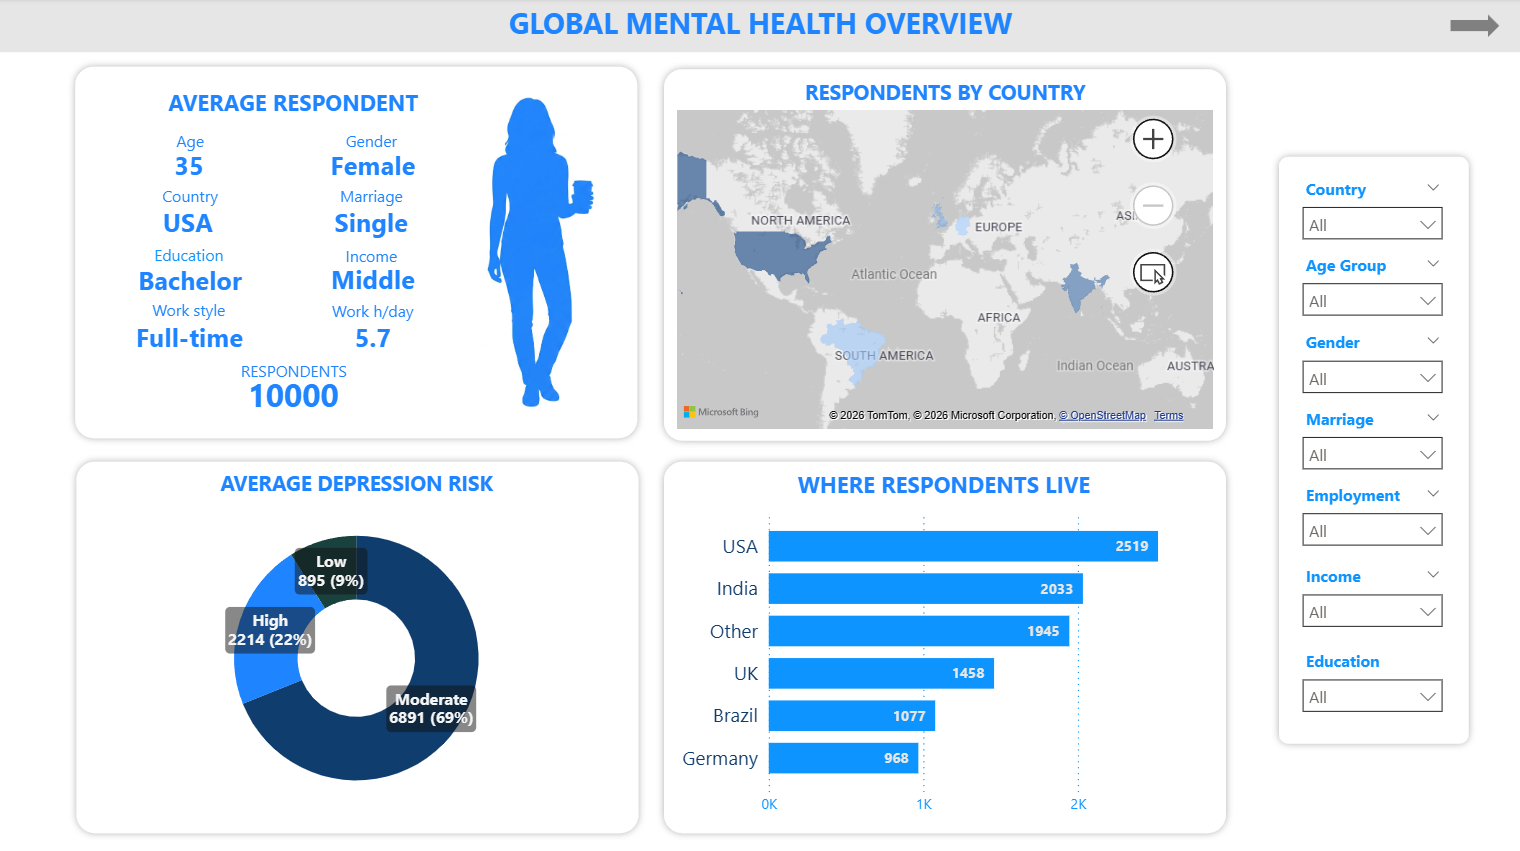

Layout of this report page (visuals, bound fields, positions):
{"tool":"powerbi","page":{"name":"Overview","canvas":[1280,720],"ordinal":0},"visuals":[{"type":"shape","box":[552.6,383.3,484.9,324.8],"z":0},{"type":"shape","box":[58.6,383.3,484.9,324.8],"z":1000},{"type":"shape","box":[57.6,51.2,484.9,324.8],"z":2000},{"type":"shape","box":[552.6,53.1,484.9,324.8],"z":3000},{"type":"textbox","box":[268,248.8,92.4,29.3],"z":4000},{"type":"clusteredBarChart","title":"WHERE RESPONDENTS LIVE","fields":{"Y":["mental_health.Respondents_COUNT"],"Category":["country.Country"]},"box":[564.4,396.1,460.2,300.1],"z":5000},{"type":"filledMap","title":"RESPONDENTS BY COUNTRY","fields":{"Category":["country.Country"]},"box":[565.4,66.8,460.2,300.1],"z":6000},{"type":"card","title":"RESPONDENTS","fields":{"Values":["mental_health.Respondents_COUNT"]},"box":[170.2,308.3,154.6,53.1],"z":7000},{"type":"image","box":[397.6,79,113.4,269],"z":8000},{"type":"card","title":"AGE","fields":{"Values":["Avg(mental_health.Age)"]},"box":[116.2,121.7,86.9,40.3],"z":9000},{"type":"card","title":"Lytis","fields":{"Values":["mental_health.Gender_AVGtxt"]},"box":[249.8,122.6,129,39.3],"z":10000},{"type":"card","title":"Šalis","fields":{"Values":["mental_health.Country_AVG"]},"box":[105.2,170.2,107.9,40.3],"z":11000},{"type":"card","title":"FAMILY","fields":{"Values":["mental_health.Mariage_AVG"]},"box":[259.8,170.2,107,40.3],"z":12000},{"type":"card","title":"Darbo val./d.","fields":{"Values":["Avg(mental_health.Work_Hours_Per_Day)"]},"box":[260.7,267.1,107.9,40.3],"z":13000},{"type":"card","title":"Išsilavinimas","fields":{"Values":["mental_health.Education_AVGtxt"]},"box":[86.9,218.6,147.3,40.3],"z":14000},{"type":"card","title":"Atlyginimas","fields":{"Values":["mental_health.Income_AVGtxt"]},"box":[260.7,218.6,107.9,39.3],"z":15000},{"type":"card","title":"Darbas","fields":{"Values":["mental_health.Emplument_AVGtxt"]},"box":[79.6,267.1,161,40.3],"z":16000},{"type":"textbox","box":[120.8,152.8,79.6,30.2],"z":17000},{"type":"textbox","box":[273.5,152.8,79.6,30.2],"z":18000},{"type":"textbox","box":[273.5,106.1,79.6,29.3],"z":19000},{"type":"textbox","box":[120.8,106.1,79.6,29.3],"z":20000},{"type":"textbox","box":[119.8,202.2,79.6,29.3],"z":21000},{"type":"textbox","box":[119.8,247.9,79.6,30.2],"z":22000},{"type":"textbox","box":[273.5,203.1,79.6,29.3],"z":23000},{"type":"donutChart","title":"AVERAGE DEPRESSION RISK","fields":{"Category":["mental_health.Depression_Risk"],"Y":["CountNonNull(mental_health.ID)"]},"box":[70.4,396.1,460.2,300.1],"z":24000},{"type":"textbox","box":[197.6,299.1,100.6,29.3],"z":25000},{"type":"textbox","box":[119.8,70.4,255.2,40.3],"z":26000},{"type":"textbox","box":[0,0,1279.8,45.7],"z":27000},{"type":"shape","box":[1069.1,127.3,172,505.9],"z":28000},{"type":"slicer","fields":{"Values":["country.Country"]},"box":[1084.8,145.6,138.1,65.9],"z":29000},{"type":"slicer","fields":{"Values":["education.Education"]},"box":[1085.5,542.7,138.1,69.5],"z":30000},{"type":"slicer","fields":{"Values":["employment.Employment_Status"]},"box":[1085.2,403.3,138.1,71.4],"z":31000},{"type":"slicer","fields":{"Values":["gender.Gender"]},"box":[1085.2,275.2,138.1,65],"z":32000},{"type":"slicer","fields":{"Values":["income.Income_Level"]},"box":[1085.5,471.3,138.1,71.4],"z":33000},{"type":"slicer","fields":{"Values":["mariage.Marital_Status"]},"box":[1085.2,339.2,138.1,65],"z":34000},{"type":"slicer","fields":{"Values":["mental_health.Age_Group"]},"box":[1085.2,210.2,138.1,65.9],"z":35000},{"type":"shape","box":[1220.2,13.5,41.3,19.2],"z":36000}]}

Visuals, with their boxes in screenshot pixels (x1, y1, x2, y2), scaled from the page's 1280x720 canvas onto the 1520x851 screenshot:
shape: pyautogui.locateOnScreen(656, 453, 1232, 837)
shape: pyautogui.locateOnScreen(70, 453, 645, 837)
shape: pyautogui.locateOnScreen(68, 61, 644, 444)
shape: pyautogui.locateOnScreen(656, 63, 1232, 447)
textbox: pyautogui.locateOnScreen(318, 294, 428, 329)
"WHERE RESPONDENTS LIVE" clusteredBarChart: pyautogui.locateOnScreen(670, 468, 1217, 823)
"RESPONDENTS BY COUNTRY" filledMap: pyautogui.locateOnScreen(671, 79, 1218, 434)
"RESPONDENTS" card: pyautogui.locateOnScreen(202, 364, 386, 427)
image: pyautogui.locateOnScreen(472, 93, 607, 411)
"AGE" card: pyautogui.locateOnScreen(138, 144, 241, 191)
"Lytis" card: pyautogui.locateOnScreen(297, 145, 450, 191)
"Šalis" card: pyautogui.locateOnScreen(125, 201, 253, 249)
"FAMILY" card: pyautogui.locateOnScreen(309, 201, 436, 249)
"Darbo val./d." card: pyautogui.locateOnScreen(310, 316, 438, 363)
"Išsilavinimas" card: pyautogui.locateOnScreen(103, 258, 278, 306)
"Atlyginimas" card: pyautogui.locateOnScreen(310, 258, 438, 305)
"Darbas" card: pyautogui.locateOnScreen(95, 316, 286, 363)
textbox: pyautogui.locateOnScreen(143, 181, 238, 216)
textbox: pyautogui.locateOnScreen(325, 181, 419, 216)
textbox: pyautogui.locateOnScreen(325, 125, 419, 160)
textbox: pyautogui.locateOnScreen(143, 125, 238, 160)
textbox: pyautogui.locateOnScreen(142, 239, 237, 274)
textbox: pyautogui.locateOnScreen(142, 293, 237, 329)
textbox: pyautogui.locateOnScreen(325, 240, 419, 275)
"AVERAGE DEPRESSION RISK" donutChart: pyautogui.locateOnScreen(84, 468, 630, 823)
textbox: pyautogui.locateOnScreen(235, 354, 354, 388)
textbox: pyautogui.locateOnScreen(142, 83, 445, 131)
textbox: pyautogui.locateOnScreen(0, 0, 1519, 54)
shape: pyautogui.locateOnScreen(1270, 150, 1474, 748)
slicer - country.Country: pyautogui.locateOnScreen(1288, 172, 1452, 250)
slicer - education.Education: pyautogui.locateOnScreen(1289, 641, 1453, 724)
slicer - employment.Employment_Status: pyautogui.locateOnScreen(1289, 477, 1453, 561)
slicer - gender.Gender: pyautogui.locateOnScreen(1289, 325, 1453, 402)
slicer - income.Income_Level: pyautogui.locateOnScreen(1289, 557, 1453, 641)
slicer - mariage.Marital_Status: pyautogui.locateOnScreen(1289, 401, 1453, 478)
slicer - mental_health.Age_Group: pyautogui.locateOnScreen(1289, 248, 1453, 326)
shape: pyautogui.locateOnScreen(1449, 16, 1498, 39)
